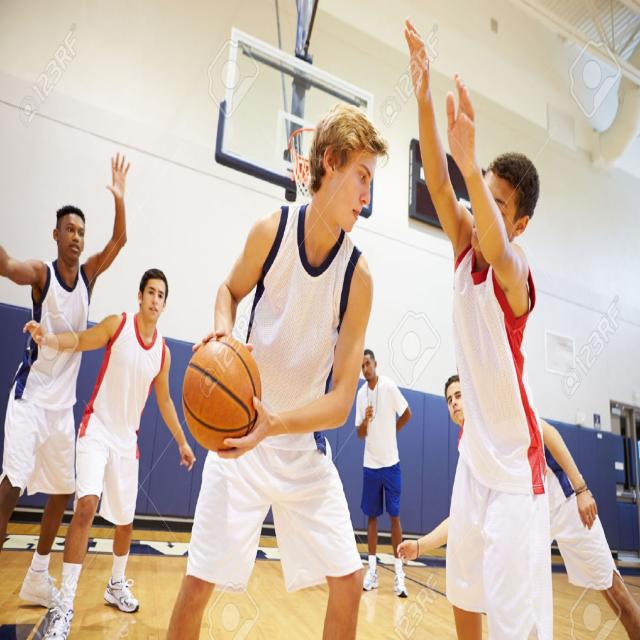body: (163, 99, 390, 638), (401, 13, 558, 640), (21, 265, 198, 639), (394, 372, 640, 640), (0, 148, 132, 606), (352, 342, 414, 602)
